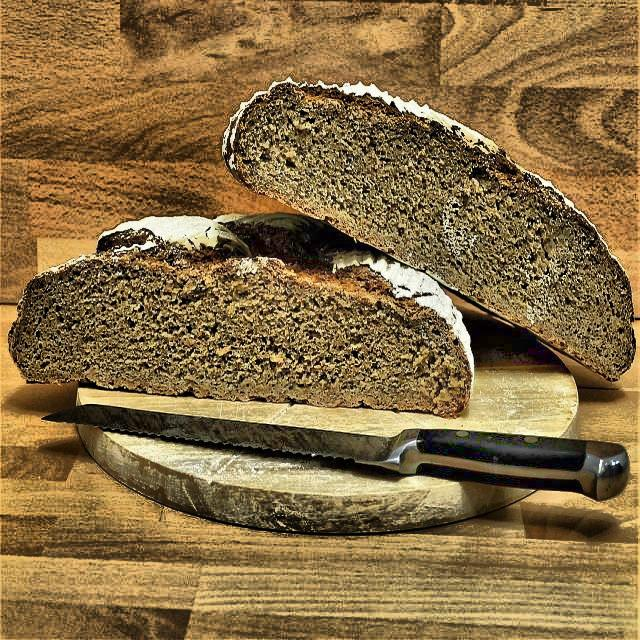knife: (41, 402, 628, 514)
